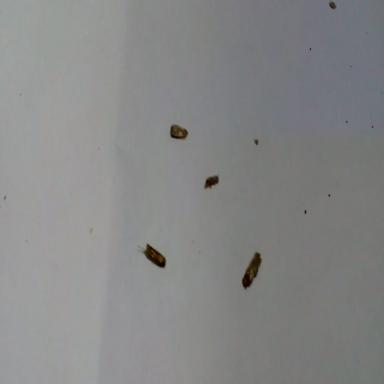pbw: (241, 250, 262, 289), (136, 242, 166, 267), (170, 124, 188, 138), (204, 174, 218, 188)
